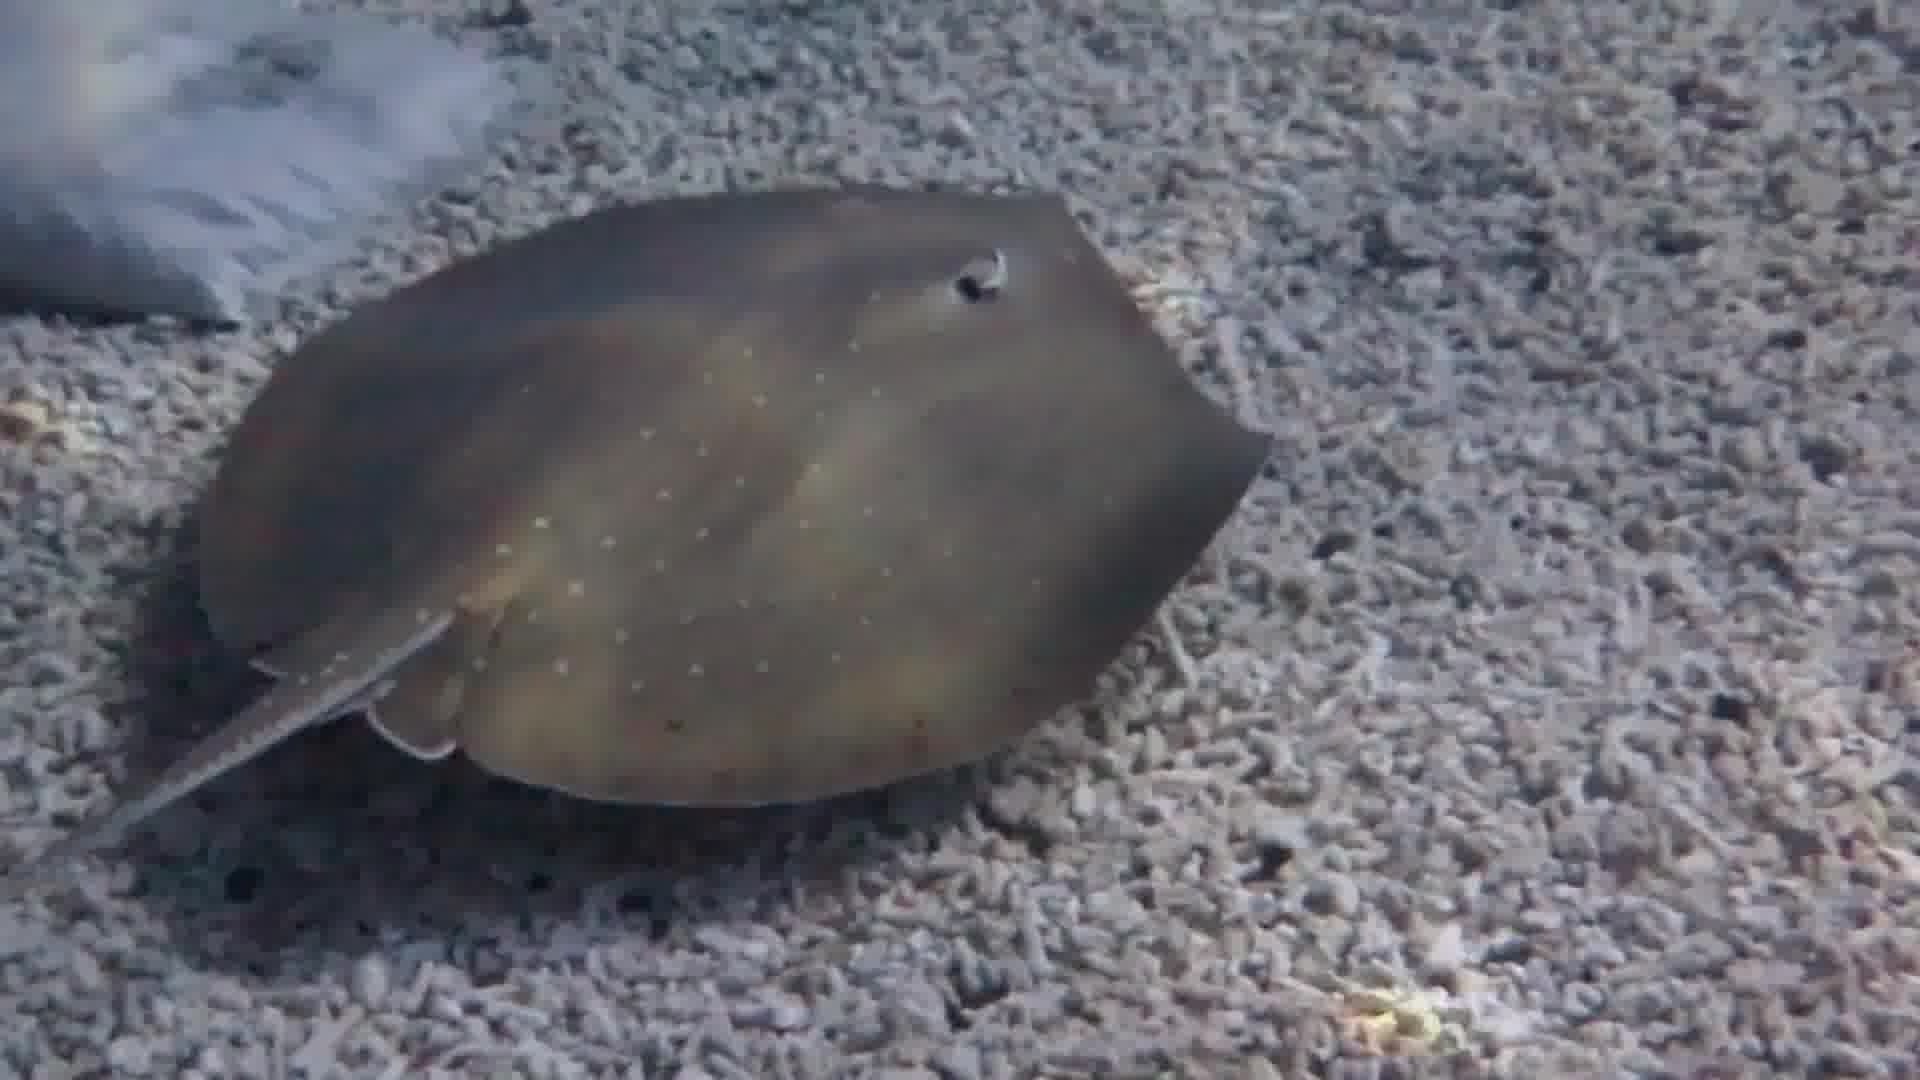Himantura gerrardi: (117, 123, 1313, 857)
